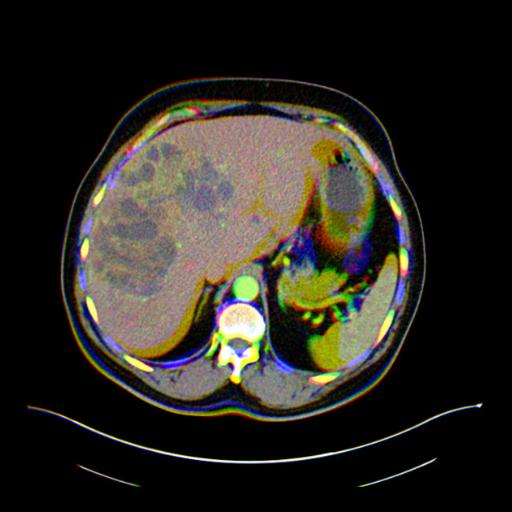Tumor: (88, 135, 236, 296)
